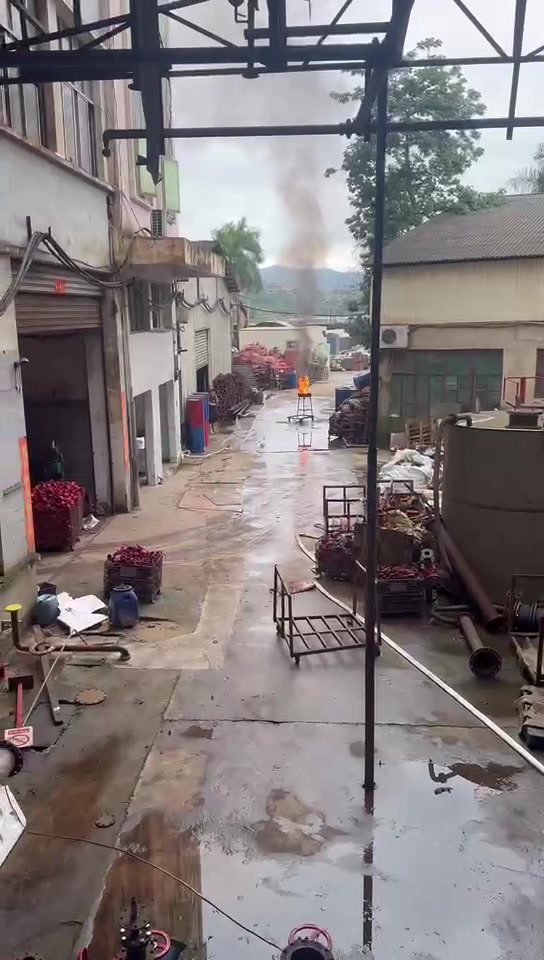fire: (297, 375, 311, 394)
